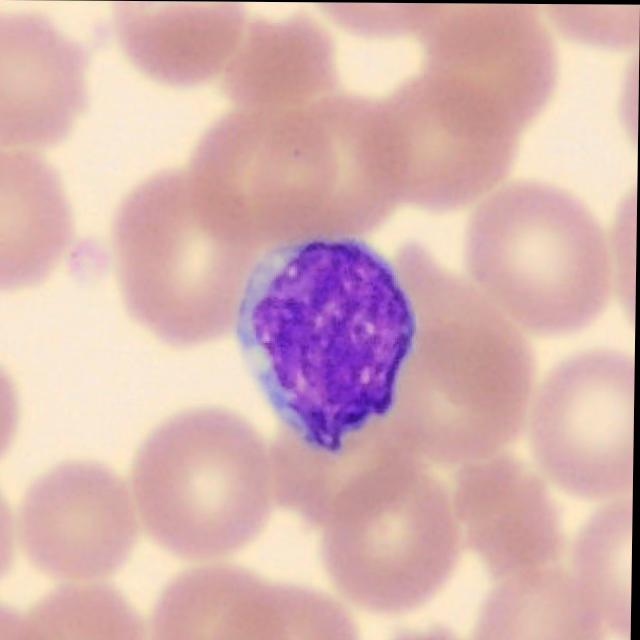Linfocito: (234, 236, 417, 450)
